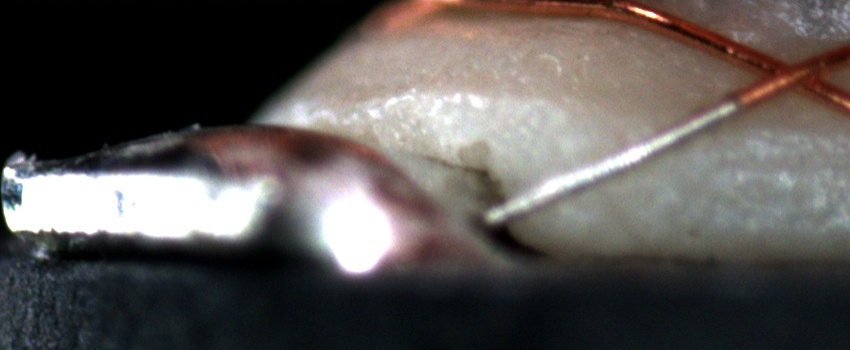CL: (745, 43, 837, 103)
DL: (713, 128, 850, 182)
TS: (484, 94, 739, 226)
